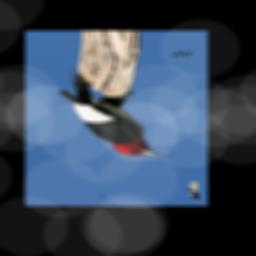Woodpecker: (55, 70, 166, 158)
